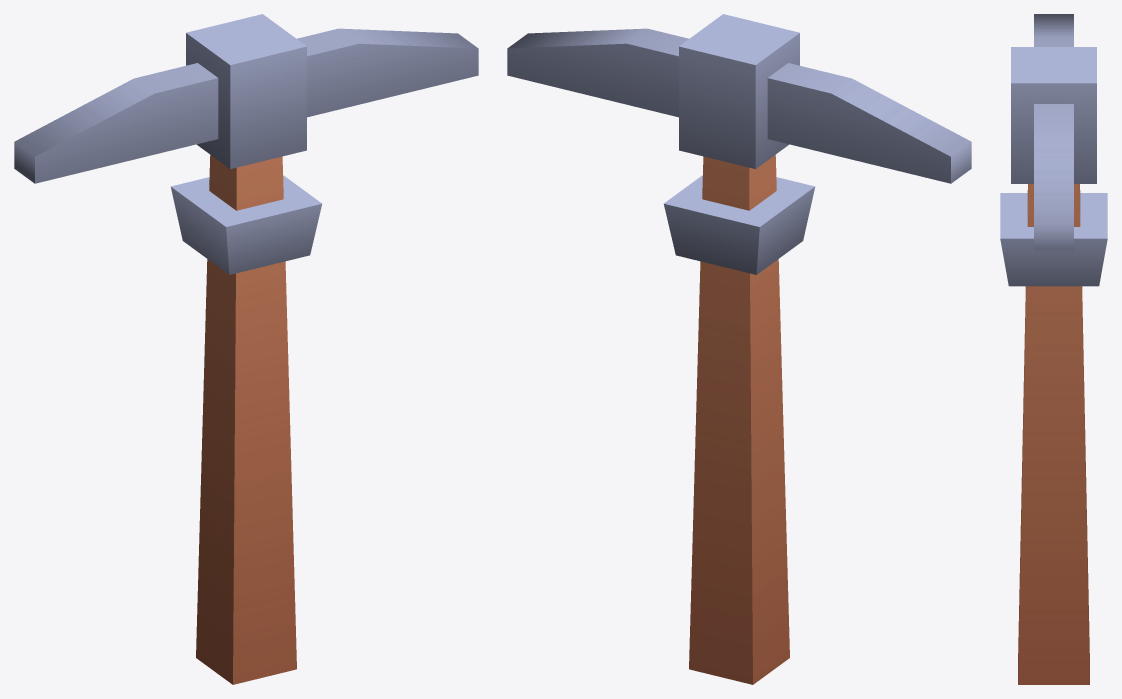
The model's file is tool-pickaxe.obj.
3 renders of one model, left to right at view 1: azimuth 30°, elevation 25°; view 2: azimuth 150°, elevation 25°; view 3: azimuth 270°, elevation 25°, orthographic. The views are drawn at different scales.
Visible parts, largest first — view 1: tool-pickaxe; view 2: tool-pickaxe; view 3: tool-pickaxe.
Part boxes in pixels (bbox=[...]): tool-pickaxe: bbox=[14, 14, 478, 684]; tool-pickaxe: bbox=[507, 14, 971, 684]; tool-pickaxe: bbox=[1000, 14, 1107, 684].
Size of the model in its own units: 0.1786 by 0.24 by 0.0387.
1 material, 1 textured.
